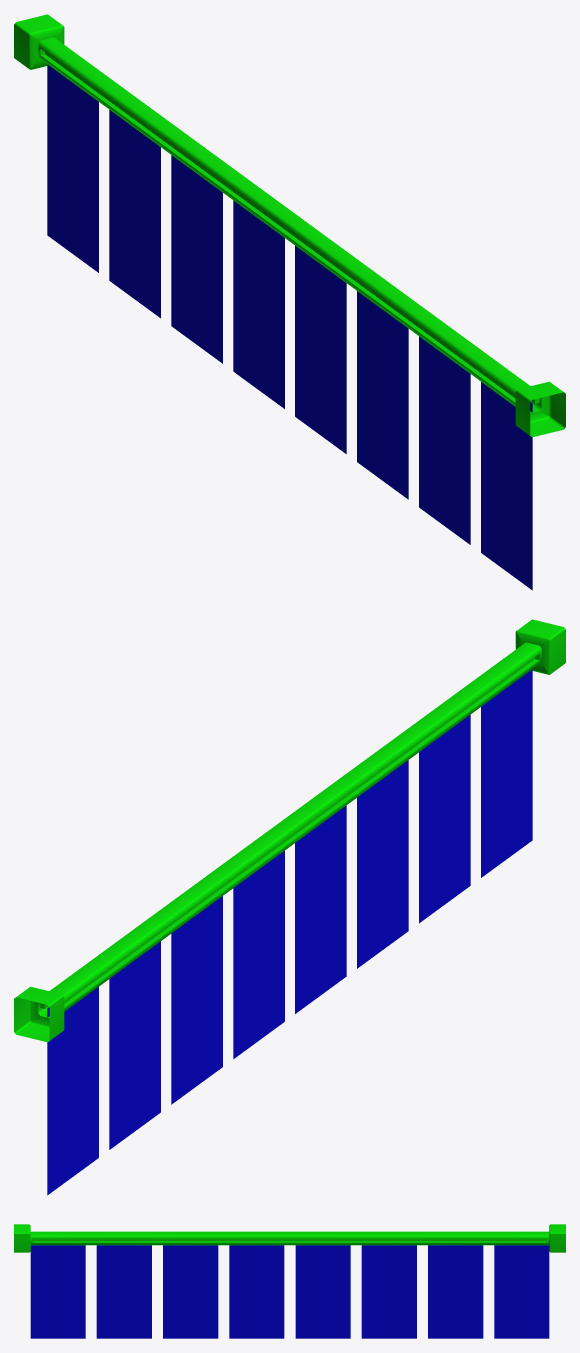
Rendered from NorinCurtain.fbx.
3 renders of one model, top to bottom at view 1: azimuth 30°, elevation 25°; view 2: azimuth 150°, elevation 25°; view 3: azimuth 270°, elevation 25°, orthographic. The views are drawn at different scales.
Parts seen in each view (by area): view 1: NorinCurtainPole, NorenPlane_Mid (×2), NorenPlane_Left_01 (×2), NorenPlane_Right (×2), NorenPlane_Left (×2); view 2: NorinCurtainPole, NorenPlane_Right (×2), NorenPlane_Left (×2), NorenPlane_Mid (×2), NorenPlane_Left_01 (×2); view 3: NorenPlane_Right (×2), NorenPlane_Mid (×2), NorenPlane_Left (×2), NorenPlane_Left_01 (×2), NorinCurtainPole.
Part boxes in pixels (left/top/right/bottom): NorinCurtainPole: left=14, top=14, right=565, bottom=437; NorenPlane_Mid (×2): left=171, top=155, right=470, bottom=544; NorenPlane_Left_01 (×2): left=47, top=64, right=346, bottom=453; NorenPlane_Right (×2): left=109, top=110, right=408, bottom=499; NorenPlane_Left (×2): left=233, top=200, right=532, bottom=590; NorinCurtainPole: left=14, top=619, right=565, bottom=1042; NorenPlane_Right (×2): left=109, top=760, right=408, bottom=1149; NorenPlane_Left (×2): left=233, top=669, right=532, bottom=1058; NorenPlane_Mid (×2): left=171, top=715, right=470, bottom=1104; NorenPlane_Left_01 (×2): left=47, top=805, right=346, bottom=1195; NorenPlane_Right (×2): left=163, top=1245, right=483, bottom=1338; NorenPlane_Mid (×2): left=96, top=1245, right=416, bottom=1338; NorenPlane_Left (×2): left=30, top=1245, right=350, bottom=1338; NorenPlane_Left_01 (×2): left=229, top=1245, right=549, bottom=1338; NorinCurtainPole: left=14, top=1224, right=565, bottom=1252.
Size of the model in its own units: 20 by 110 by 500.
